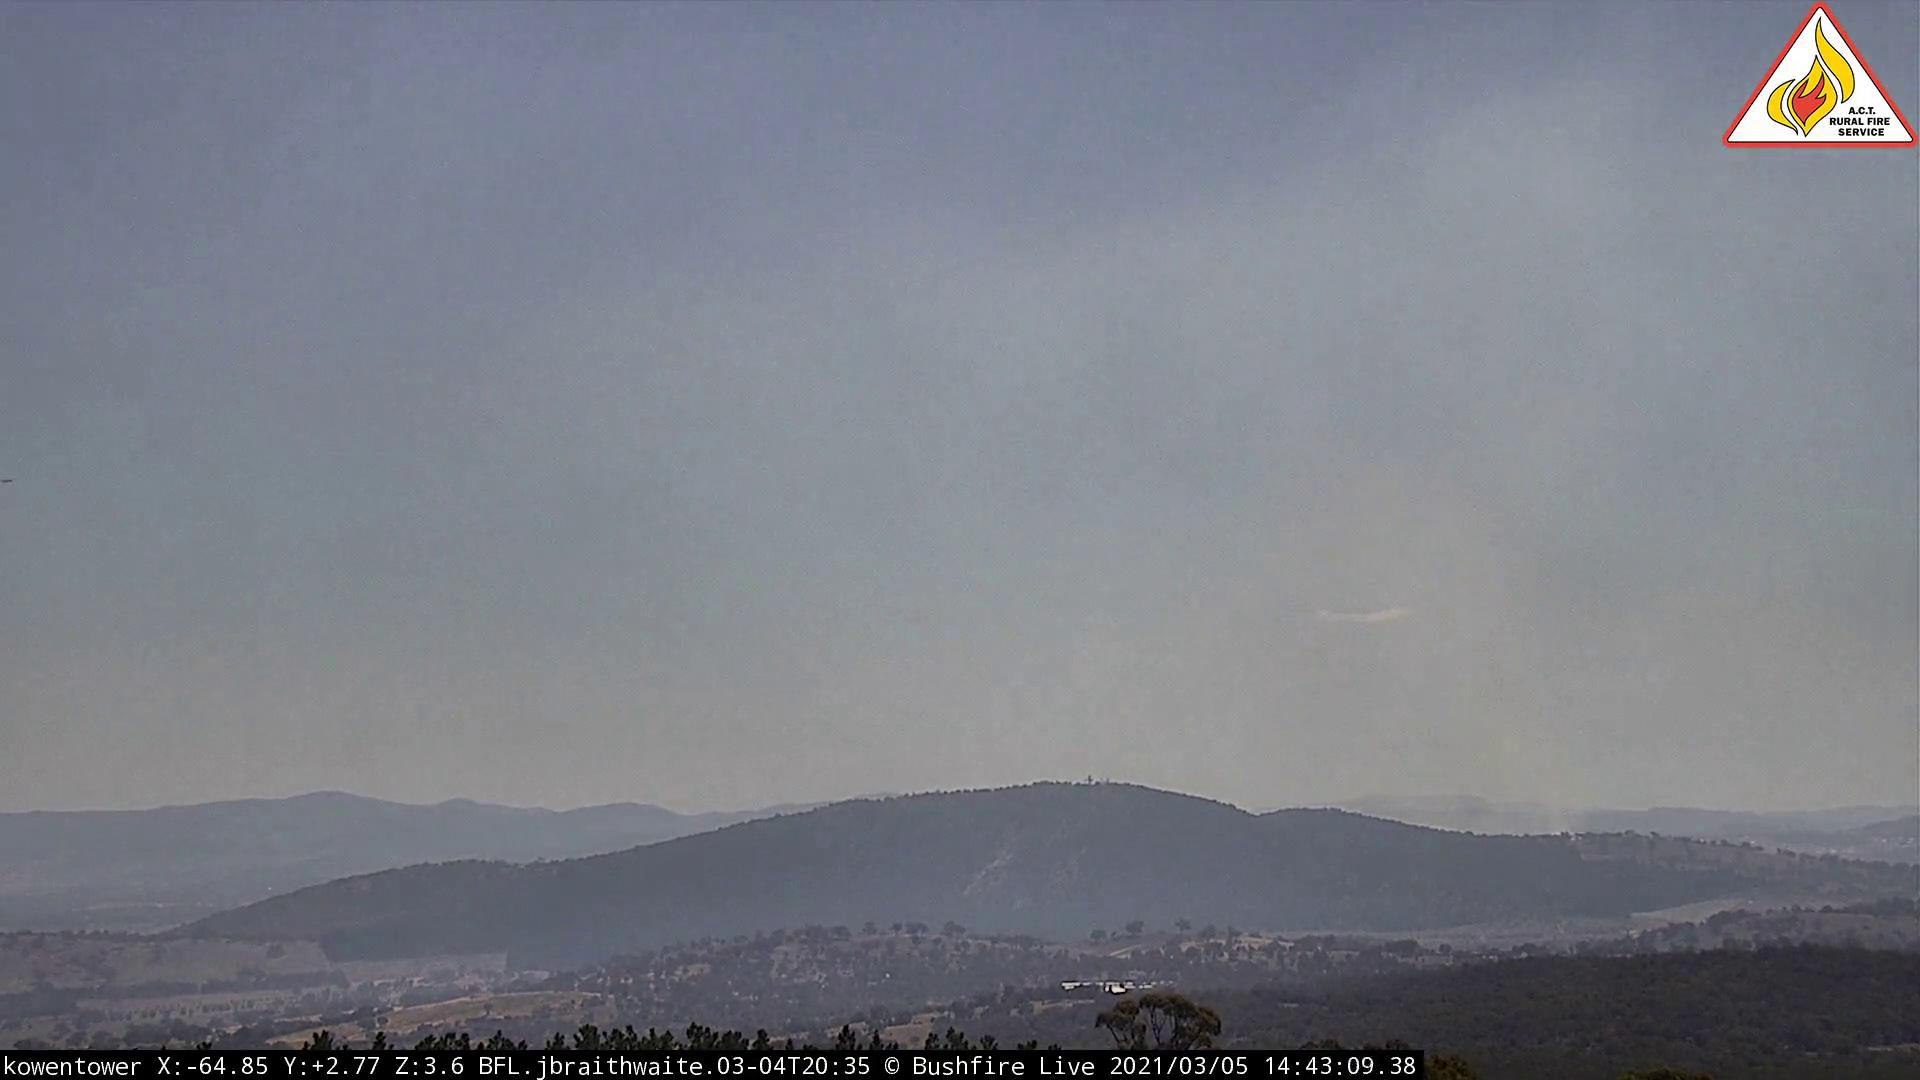instance_salient_object: (1340, 584, 1594, 852)
